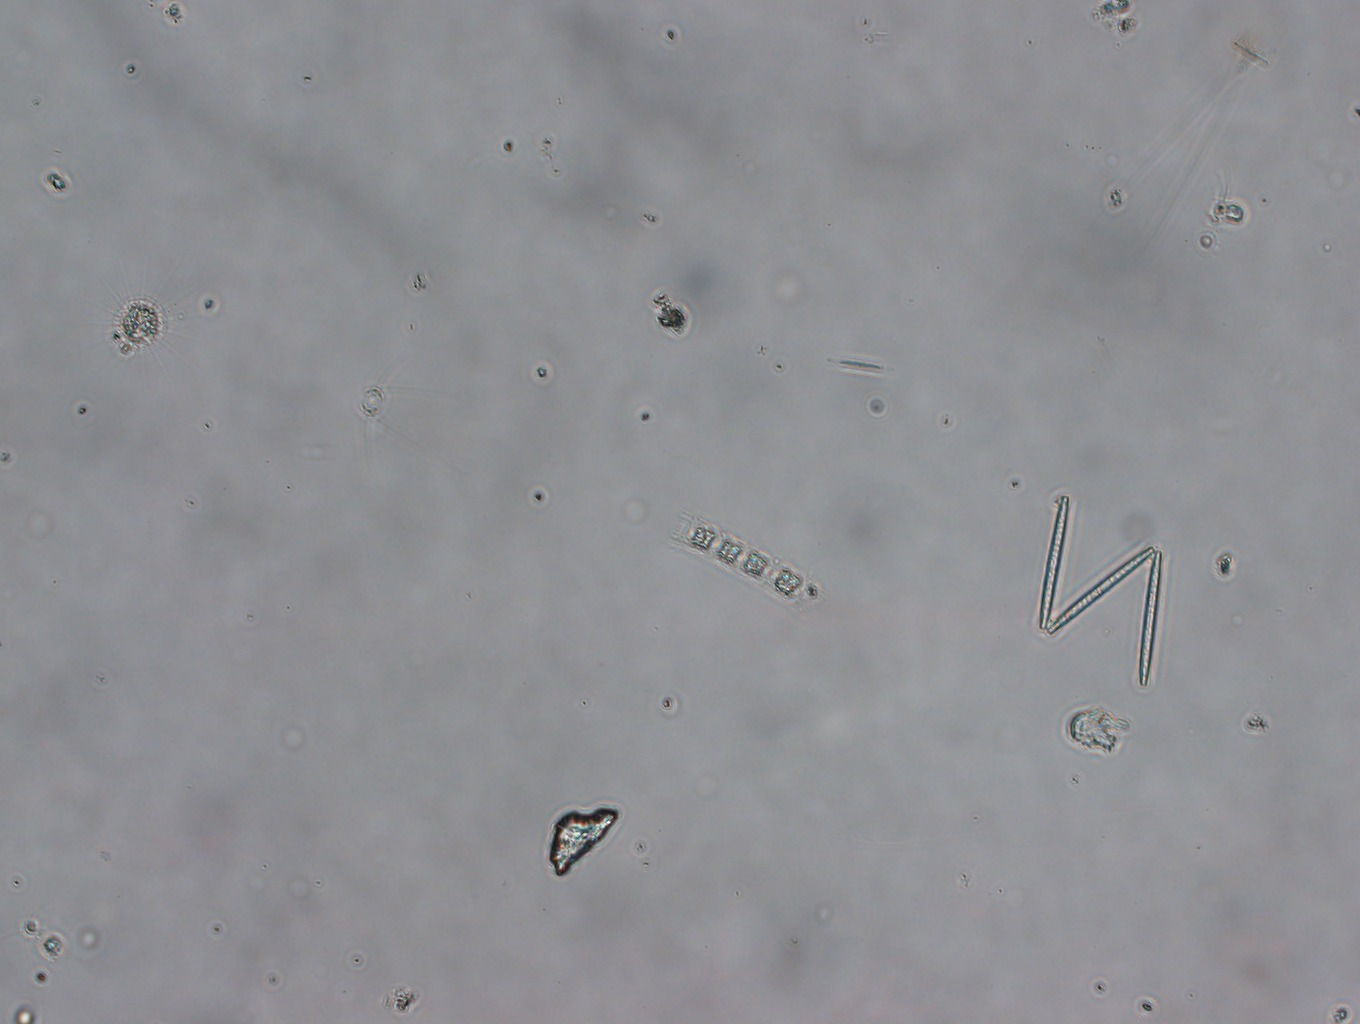skeletonema: (669, 515, 810, 615)
thalassionema nitzschioides: (1027, 477, 1169, 691)
